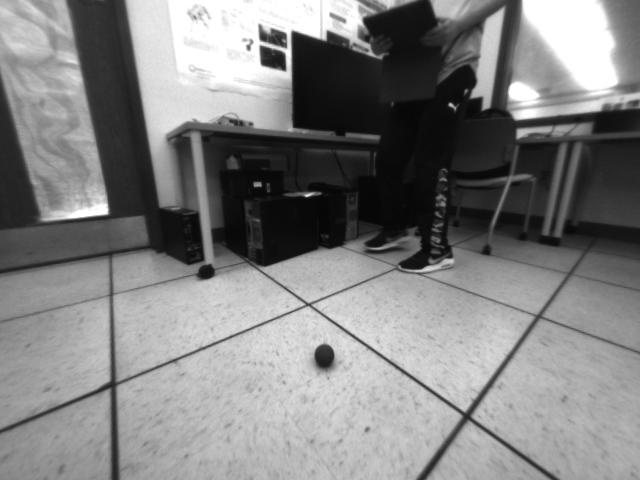dogtoy: (311, 336, 348, 375)
